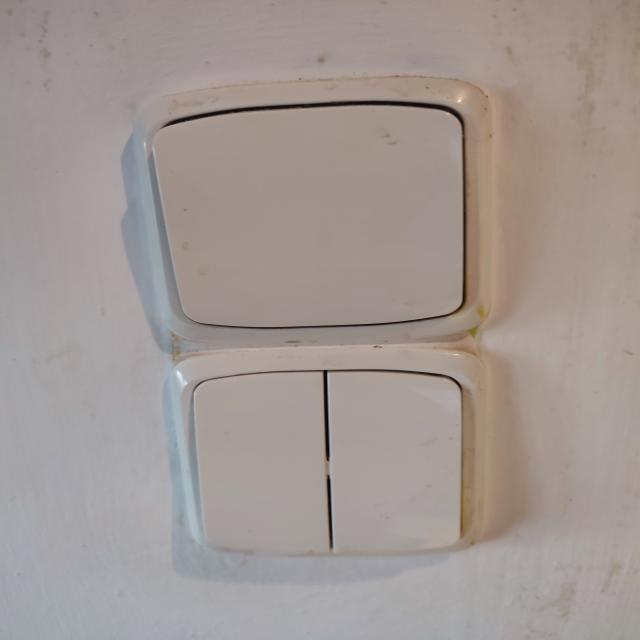house switch: (141, 88, 489, 345)
house switch double: (174, 355, 483, 558)
